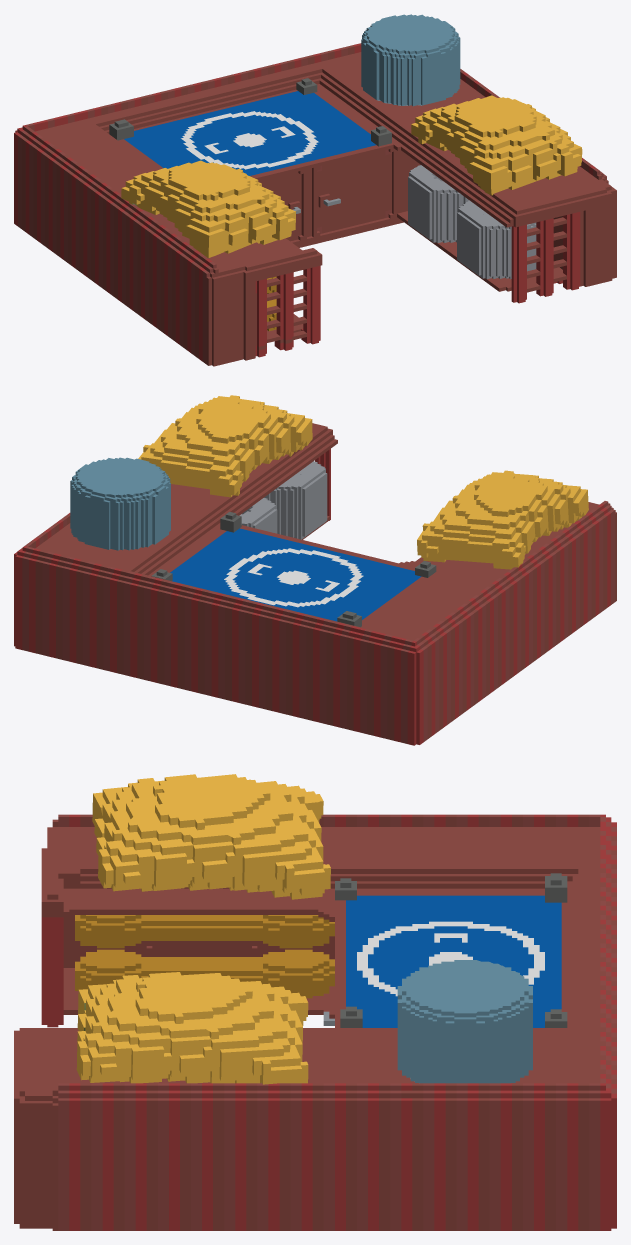
File: base_upgrade_station.obj
3 views of the same model, one above another, from view 1: azimuth 30°, elevation 25°; view 2: azimuth 150°, elevation 25°; view 3: azimuth 270°, elevation 25° (orthographic). The views are drawn at different scales.
Parts seen in each view (by area): view 1: Untitled; view 2: Untitled; view 3: Untitled.
Part boxes in pixels (bbox=[...]): Untitled: bbox=[14, 14, 616, 366]; Untitled: bbox=[14, 395, 616, 745]; Untitled: bbox=[14, 774, 616, 1230].
Size of the model in its own units: 3.6 by 1.23 by 3.27.
Materials: 4 (4 with a texture image).
